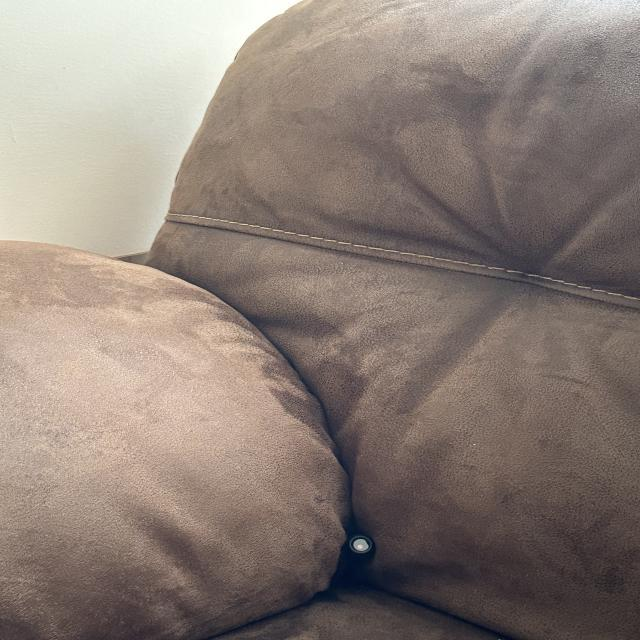hidden camera: (349, 534, 373, 553)
